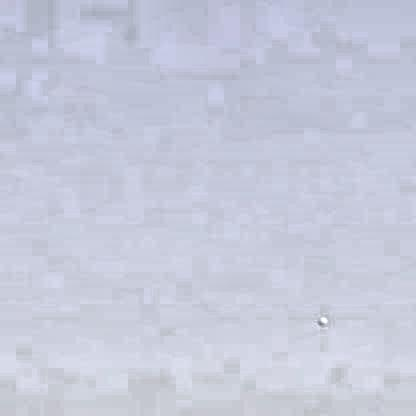golfball: (315, 314, 325, 322)
